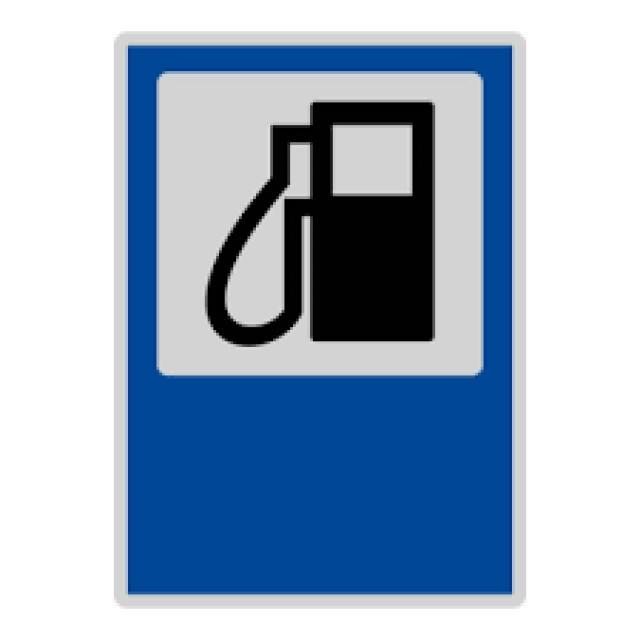petrol pump ahead: (133, 48, 508, 398)
